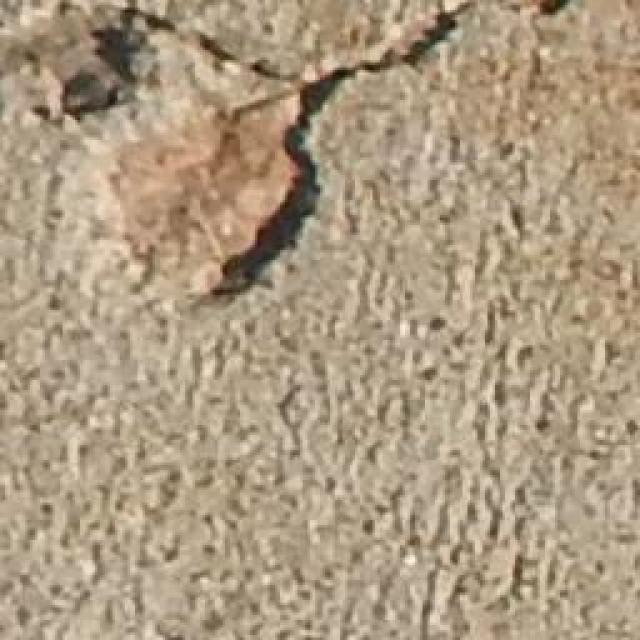concrete-crack: (45, 0, 479, 304)
